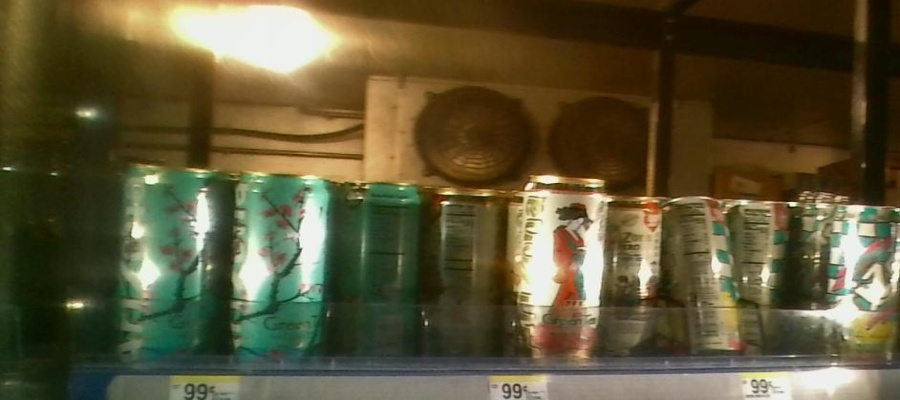bottle: (225, 154, 331, 375), (118, 155, 222, 372), (515, 164, 607, 378), (422, 177, 503, 374), (343, 168, 418, 374), (667, 182, 735, 376), (829, 189, 900, 365), (607, 182, 664, 376), (734, 191, 791, 359)
